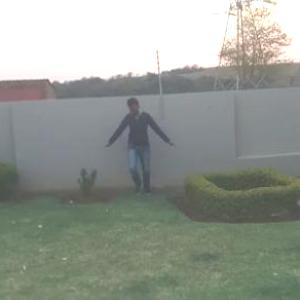land: (100, 89, 180, 200)
